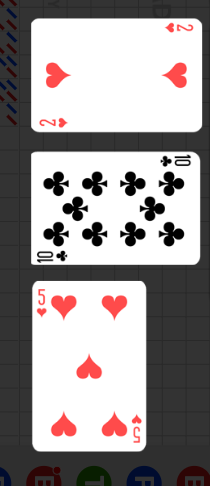10C: (159, 153, 193, 168), (36, 248, 70, 262)
5H: (131, 412, 143, 444)
